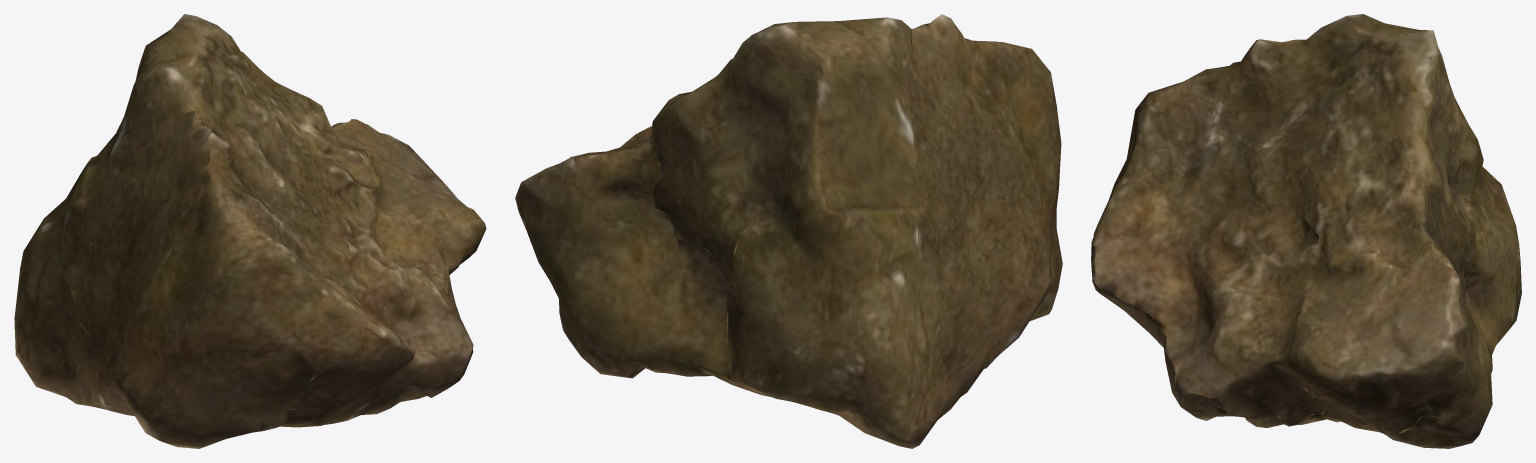
File: scanned_boulder3.glb
3 views of the same model, side by side, from view 1: azimuth 30°, elevation 25°; view 2: azimuth 150°, elevation 25°; view 3: azimuth 270°, elevation 25° (orthographic). The views are drawn at different scales.
Visible parts, largest first — view 1: scanned_boulder3; view 2: scanned_boulder3; view 3: scanned_boulder3.
Part boxes in pixels (left/top/right/bottom): scanned_boulder3: left=14, top=14, right=486, bottom=448; scanned_boulder3: left=515, top=14, right=1062, bottom=448; scanned_boulder3: left=1091, top=14, right=1521, bottom=448.
Bounding box in the file's own units: 3 × 2.5 × 2.77.
1 material, 1 textured.
